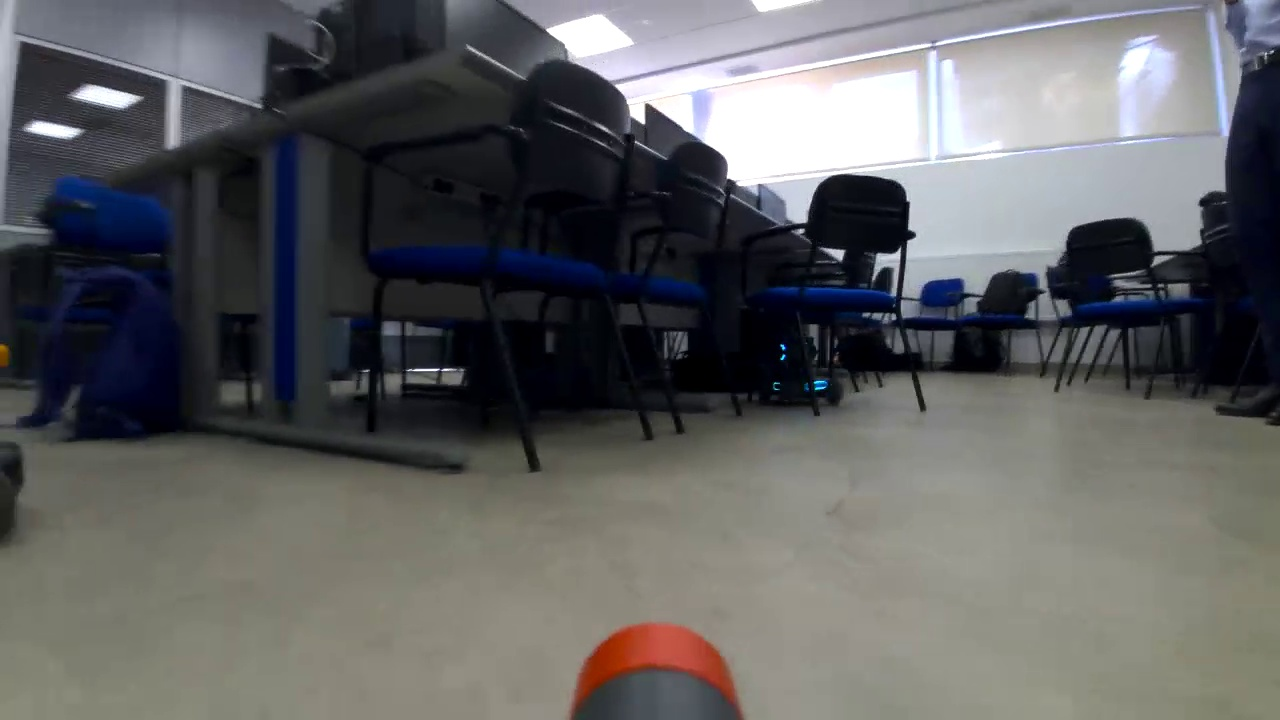robot: (756, 321, 847, 412)
